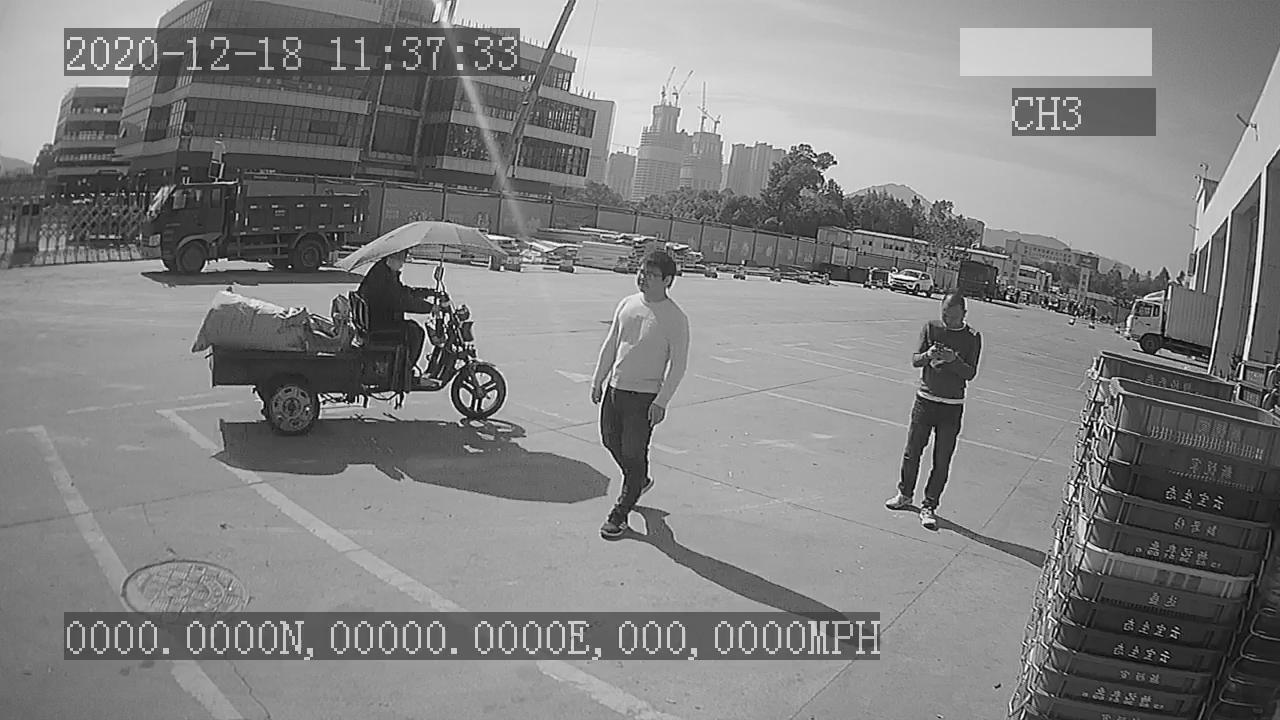person: (587, 243, 697, 539), (883, 289, 993, 532)
